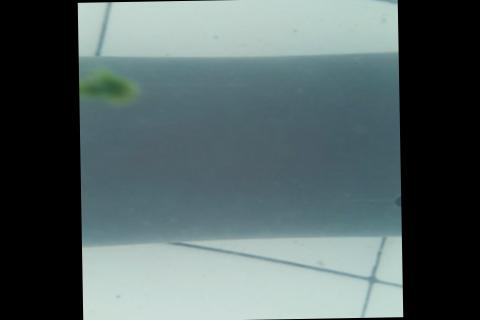kebocoran: (390, 189, 400, 209)
